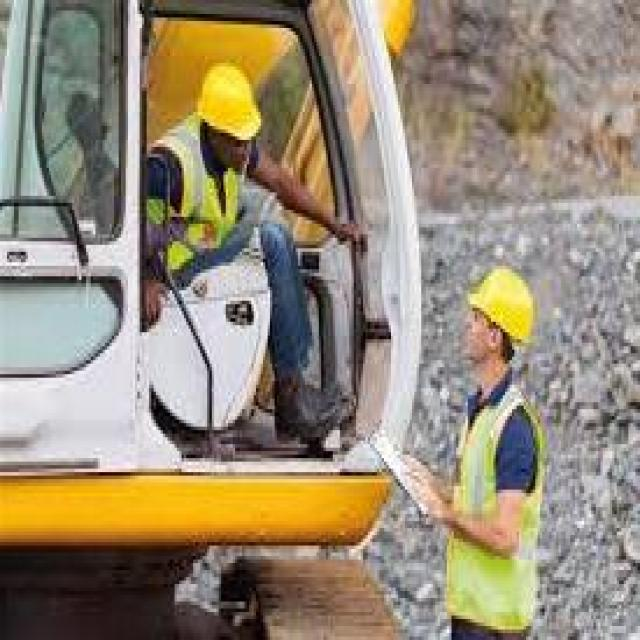Reflective-Jacket: (432, 377, 565, 640), (135, 119, 249, 290)
Safety-Helmet: (449, 255, 552, 364), (188, 52, 272, 158)
